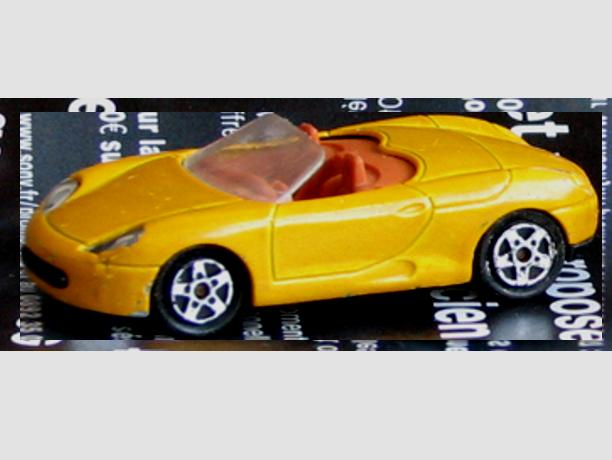toy-car: (20, 113, 602, 341)
